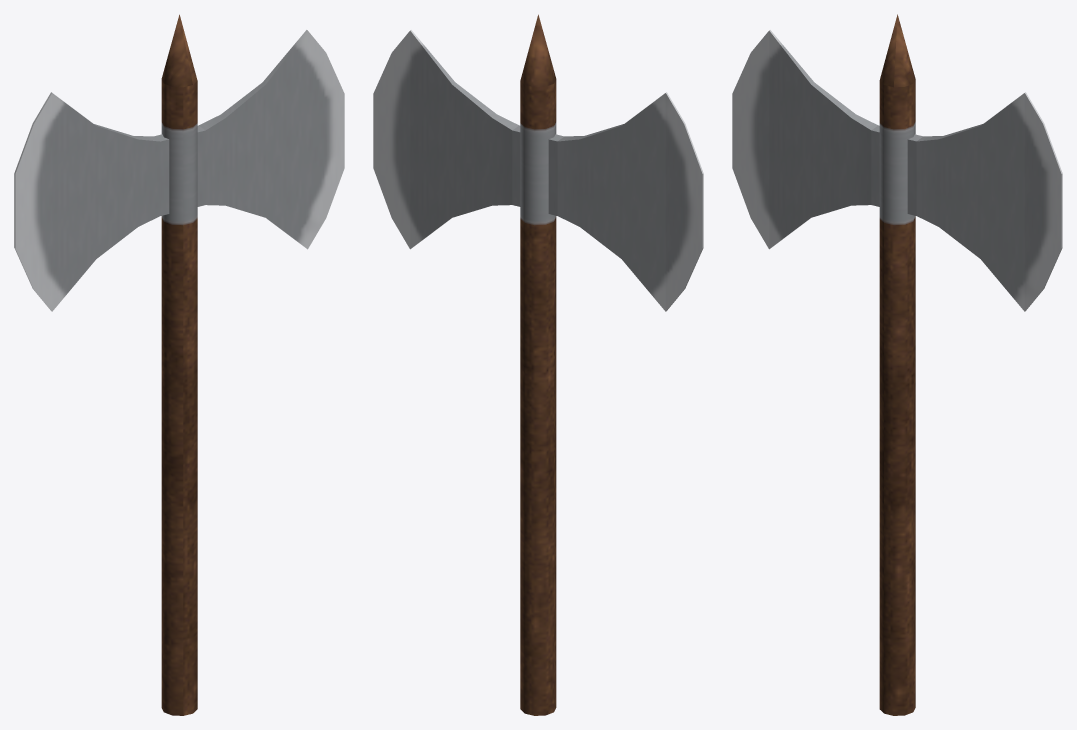
The model's file is Double hand axe.fbx.
3 views of the same model, side by side, from view 1: azimuth 30°, elevation 25°; view 2: azimuth 150°, elevation 25°; view 3: azimuth 330°, elevation 25° (orthographic).
Visible parts, largest first — view 1: Double_hand_axe; view 2: Double_hand_axe; view 3: Double_hand_axe.
Boxes of the visible parts, x1,y1,x2,y2 form: Double_hand_axe: (14,14,344,715); Double_hand_axe: (373,14,703,715); Double_hand_axe: (732,14,1062,715).
Bounding box in the file's own units: 0.584 × 1.18 × 0.0528.
